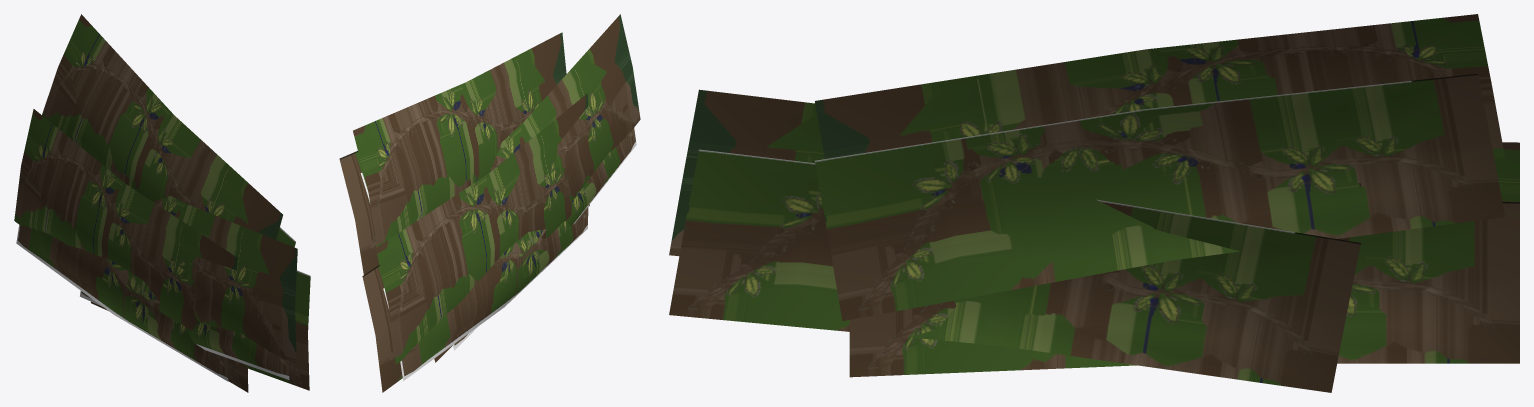
File: Bramenstruik.fbx
The picture shows the model from 3 angles, left to right: view 1: azimuth 30°, elevation 25°; view 2: azimuth 150°, elevation 25°; view 3: azimuth 270°, elevation 25°; orthographic projection. The views are drawn at different scales.
Parts seen in each view (by area): view 1: Bramen10; view 2: Bramen10; view 3: Bramen10.
Part boxes in pixels (x1=…): Bramen10: x1=14, y1=14, x2=310, y2=392; Bramen10: x1=339, y1=14, x2=640, y2=392; Bramen10: x1=669, y1=14, x2=1519, y2=392.
Size of the model in its own units: 1.11 by 3.44 by 6.51.
Materials: 1 (1 with a texture image).
